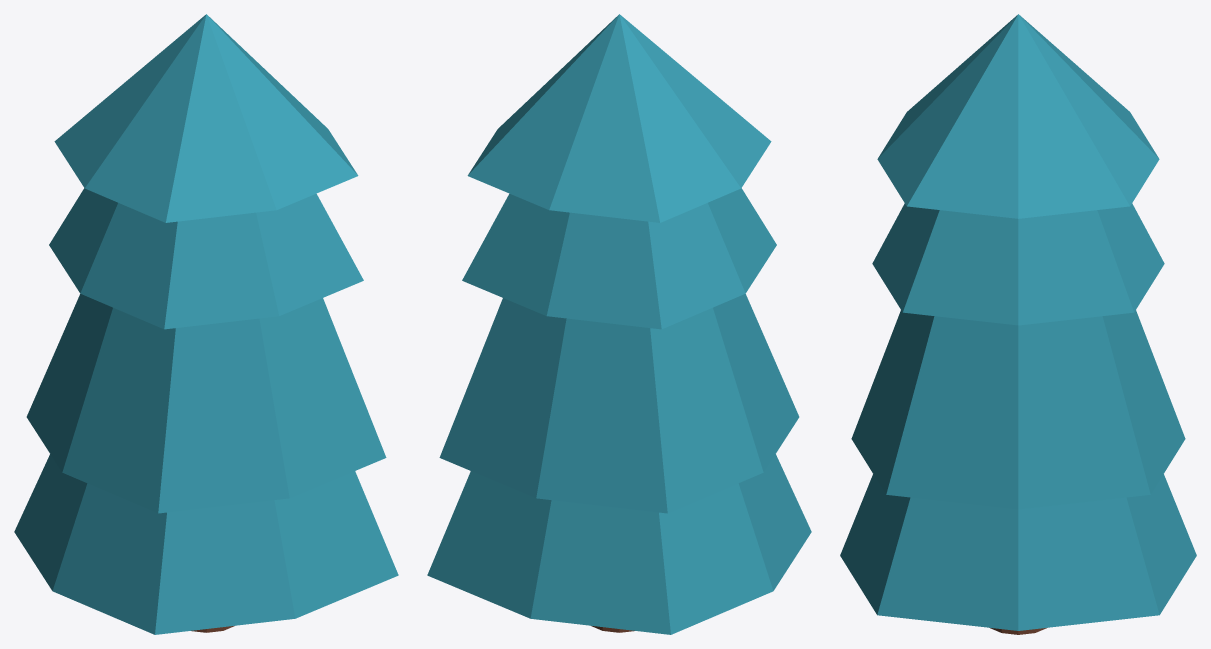
The model's file is Tree_22_summer_blue_vc.fbx.
3 renders of one model, left to right at view 1: azimuth 30°, elevation 25°; view 2: azimuth 150°, elevation 25°; view 3: azimuth 270°, elevation 25°, orthographic.
Visible parts, largest first — view 1: Tree_22_summer_blue_vc; view 2: Tree_22_summer_blue_vc; view 3: Tree_22_summer_blue_vc.
Boxes of the visible parts, x1,y1,x2,y2 form: Tree_22_summer_blue_vc: (14,14,398,634); Tree_22_summer_blue_vc: (427,14,811,634); Tree_22_summer_blue_vc: (840,14,1196,634).
Size of the model in its own units: 82.75 by 155 by 82.75.
